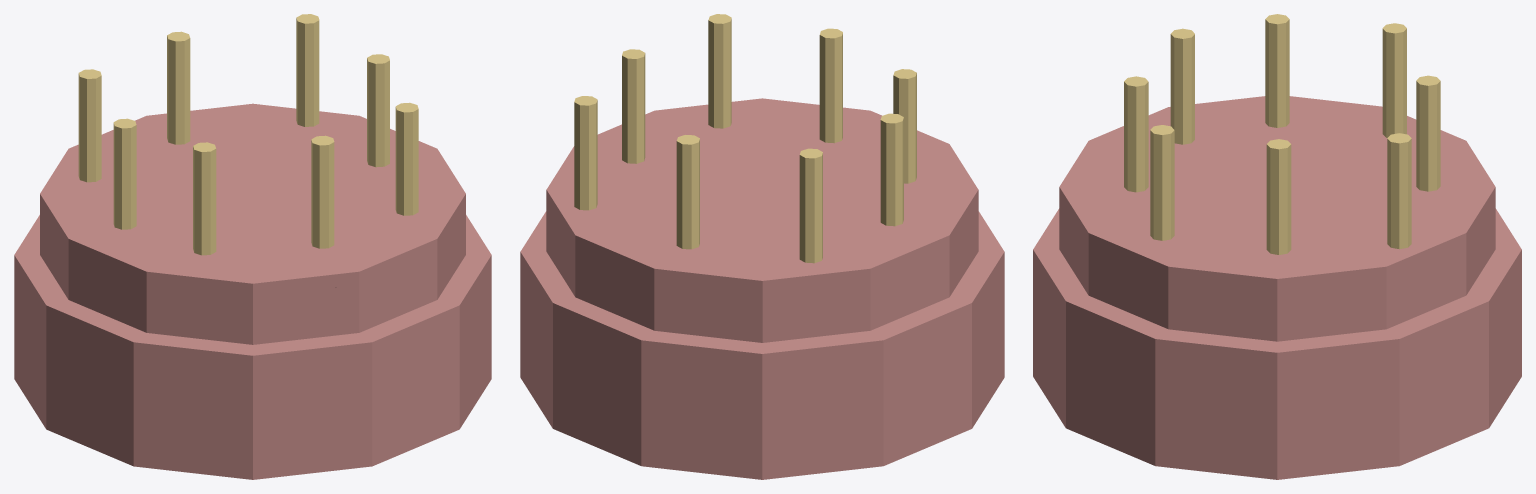
File: Cake.fbx
3 views of the same model, side by side, from view 1: azimuth 30°, elevation 25°; view 2: azimuth 150°, elevation 25°; view 3: azimuth 270°, elevation 25° (orthographic). The views are drawn at different scales.
Visible parts, largest first — view 1: Cylinder, Cylinder.005, Cylinder.008, Cylinder.003, Cylinder.006, Cylinder.004, Cylinder.007, Cylinder.001, Cylinder.002; view 2: Cylinder, Cylinder.006, Cylinder.007, Cylinder.002, Cylinder.005, Cylinder.003, Cylinder.004, Cylinder.001, Cylinder.008; view 3: Cylinder, Cylinder.002, Cylinder.004, Cylinder.007, Cylinder.003, Cylinder.006, Cylinder.001, Cylinder.008, Cylinder.005.
Part boxes in pixels (x1,y1,x2,y2): Cylinder: (14,103,491,479); Cylinder.005: (78,69,101,182); Cylinder.008: (193,142,216,255); Cylinder.003: (296,14,319,126); Cylinder.006: (395,102,418,215); Cylinder.004: (167,31,190,144); Cylinder.007: (311,135,334,248); Cylinder.001: (113,118,136,229); Cylinder.002: (367,54,389,167); Cylinder: (520,98,1004,479); Cylinder.006: (708,14,731,128); Cylinder.007: (819,28,842,143); Cylinder.002: (622,49,645,163); Cylinder.005: (799,148,822,263); Cylinder.003: (574,96,597,210); Cylinder.004: (676,135,699,249); Cylinder.001: (880,113,903,226); Cylinder.008: (893,69,916,183); Cylinder: (1033,96,1521,479); Cylinder.002: (1266,139,1291,254); Cylinder.004: (1416,75,1440,191); Cylinder.007: (1124,76,1148,192); Cylinder.003: (1387,133,1411,249); Cylinder.006: (1150,125,1174,240); Cylinder.001: (1265,14,1289,127); Cylinder.008: (1170,28,1194,144); Cylinder.005: (1382,23,1406,137).
Size of the model in its own units: 80 by 53.39 by 80.
